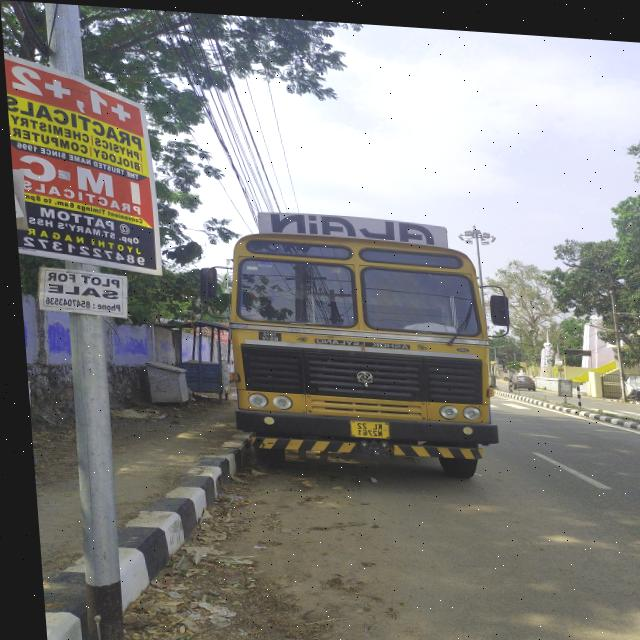plate: (343, 412, 385, 436)
